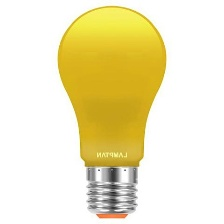light_bulb: (54, 3, 172, 222)
